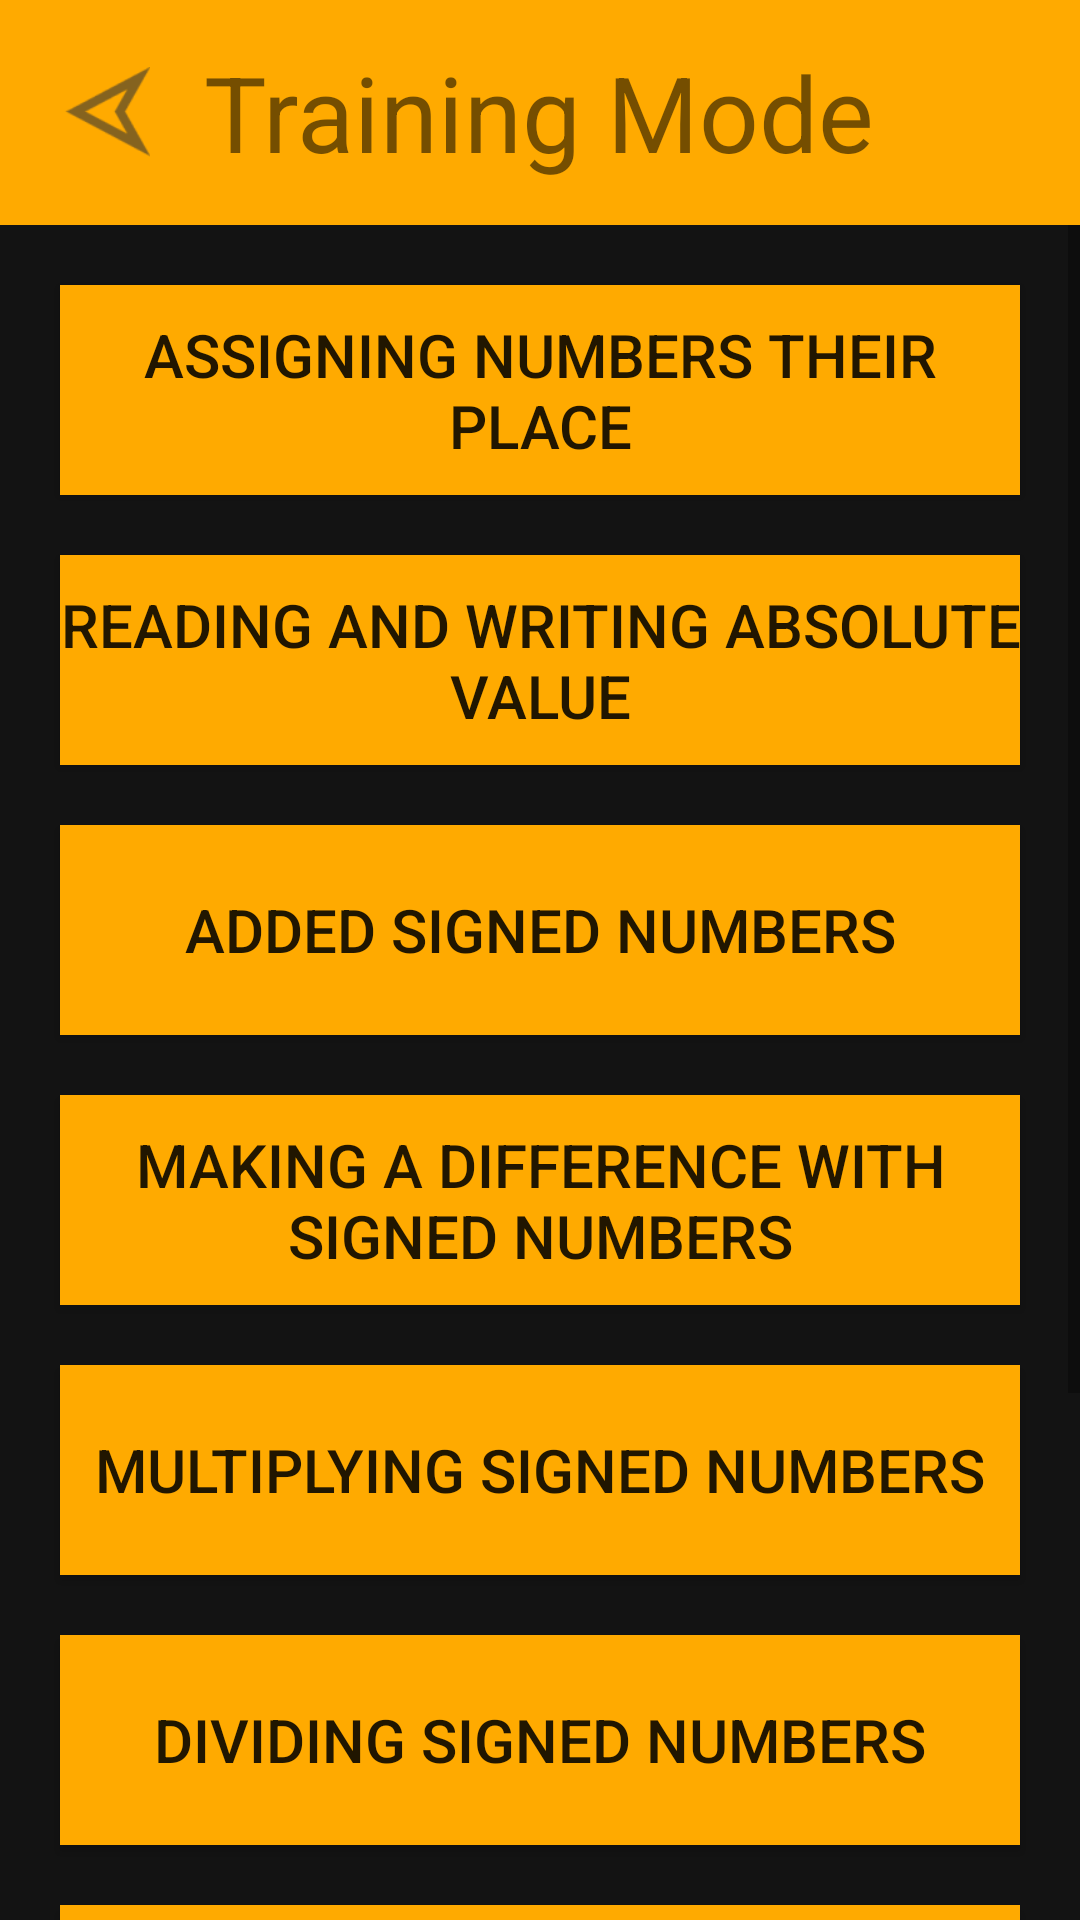

Point at icon controls on the screen. Image size 1080w x 1920h, points as (x,y).
back: (108,111)
